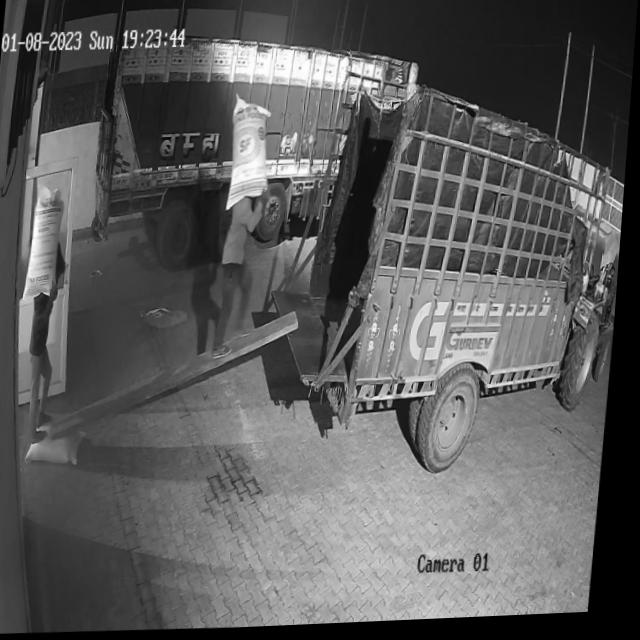sack: (228, 98, 274, 214), (27, 185, 67, 298), (31, 420, 92, 465)
